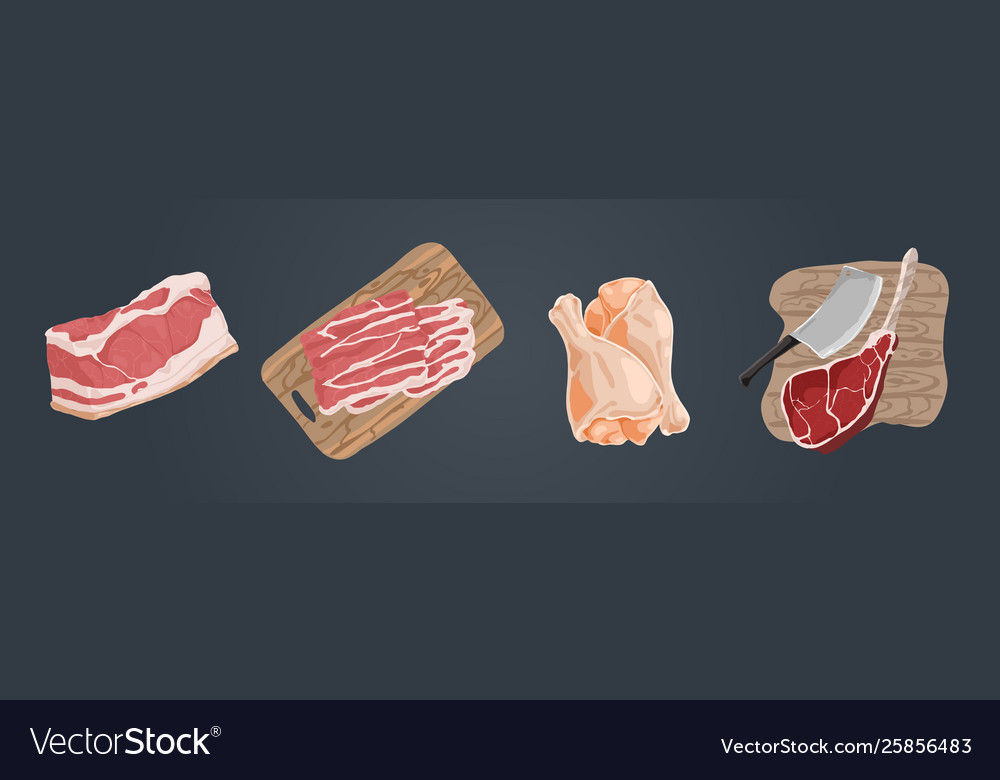bacon: (752, 259, 934, 471), (31, 276, 251, 437), (287, 293, 513, 440)
